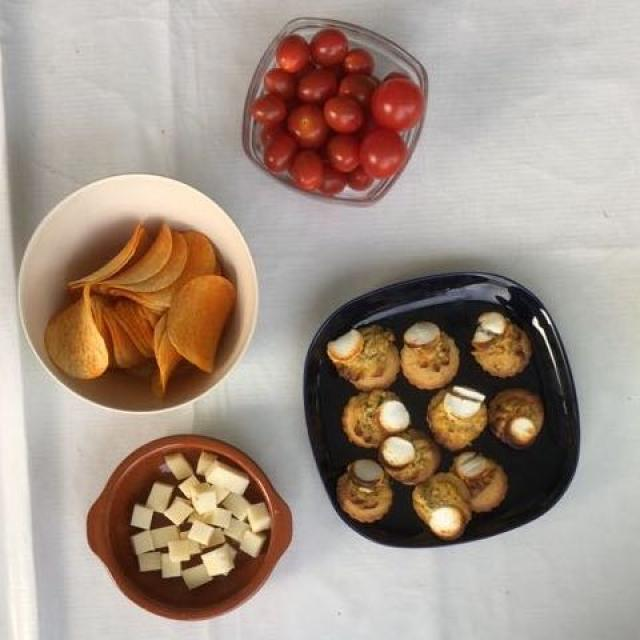dough-puff-pastry-shortcrust-bread-pizza-dough: (343, 334, 550, 530)
gruyere: (123, 451, 277, 609)
paprika-chips: (43, 227, 234, 399)
tomato-raw: (251, 30, 413, 194)
